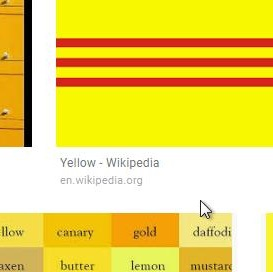cursor: (198, 198, 213, 220)
